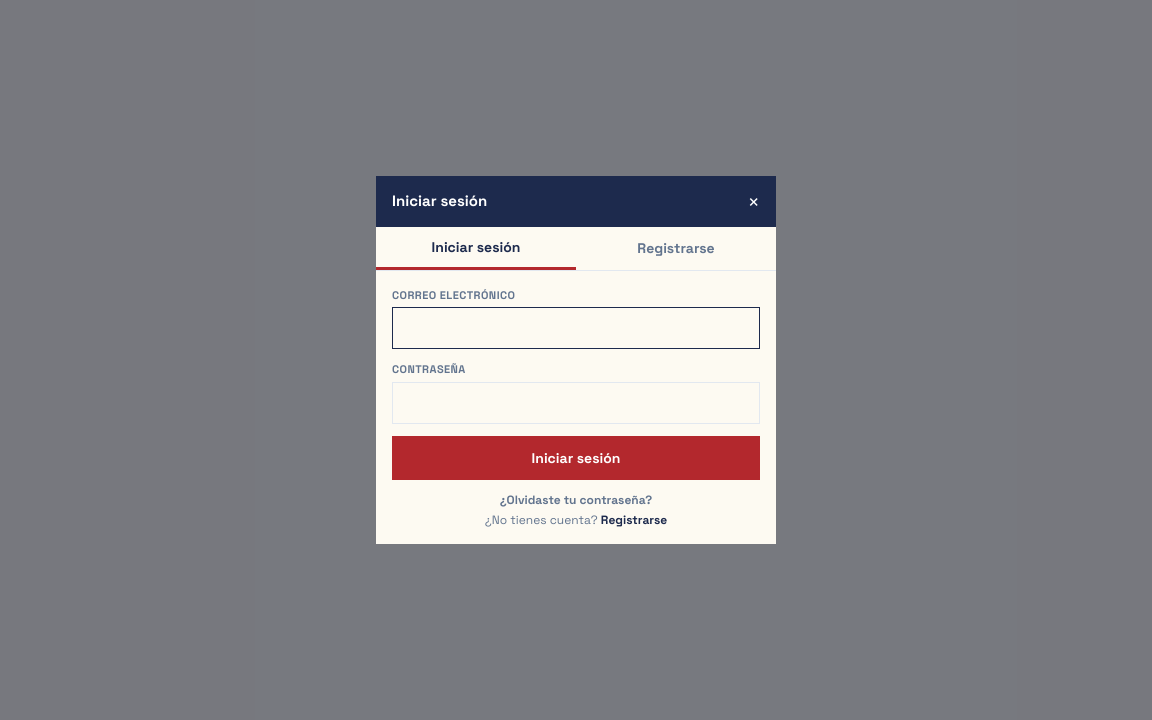
Test case: AuthModal › shows the translated login error when credentials are rejected
Type "coach@example.com" into the field labelled "Correo electrónico" at coordinates (576, 328), box [392, 307, 760, 349]
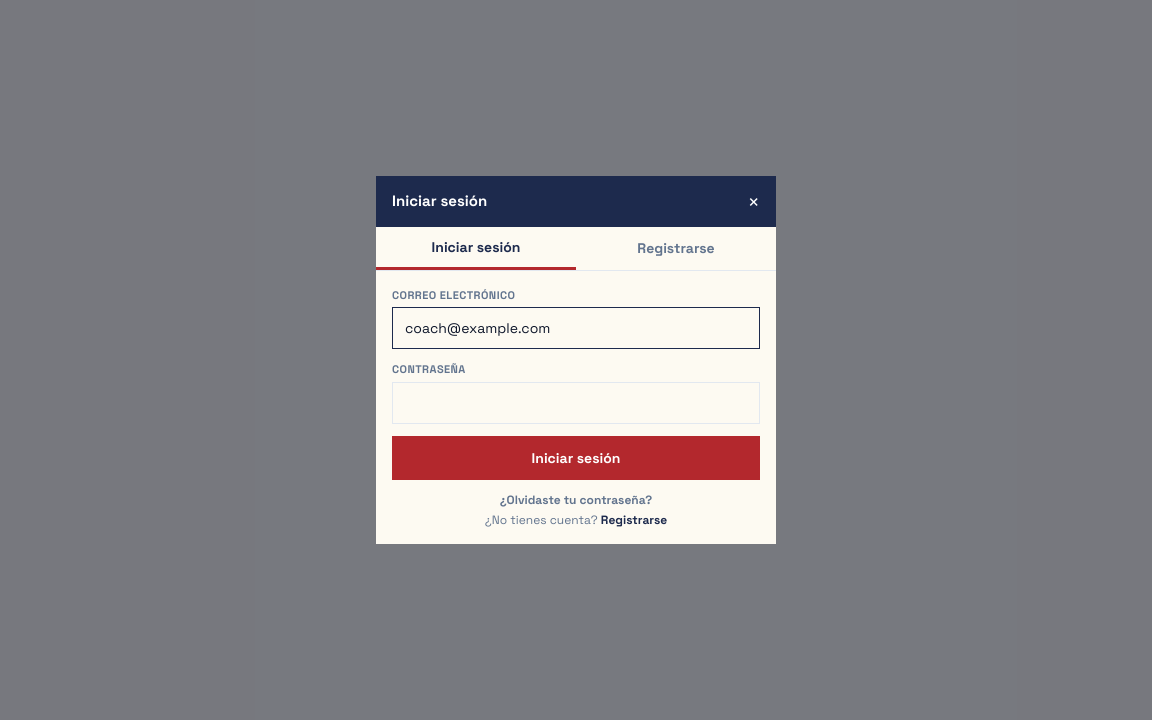
Type "wrong" into the password field labelled "Contraseña" at coordinates (576, 403), box [392, 382, 760, 424]
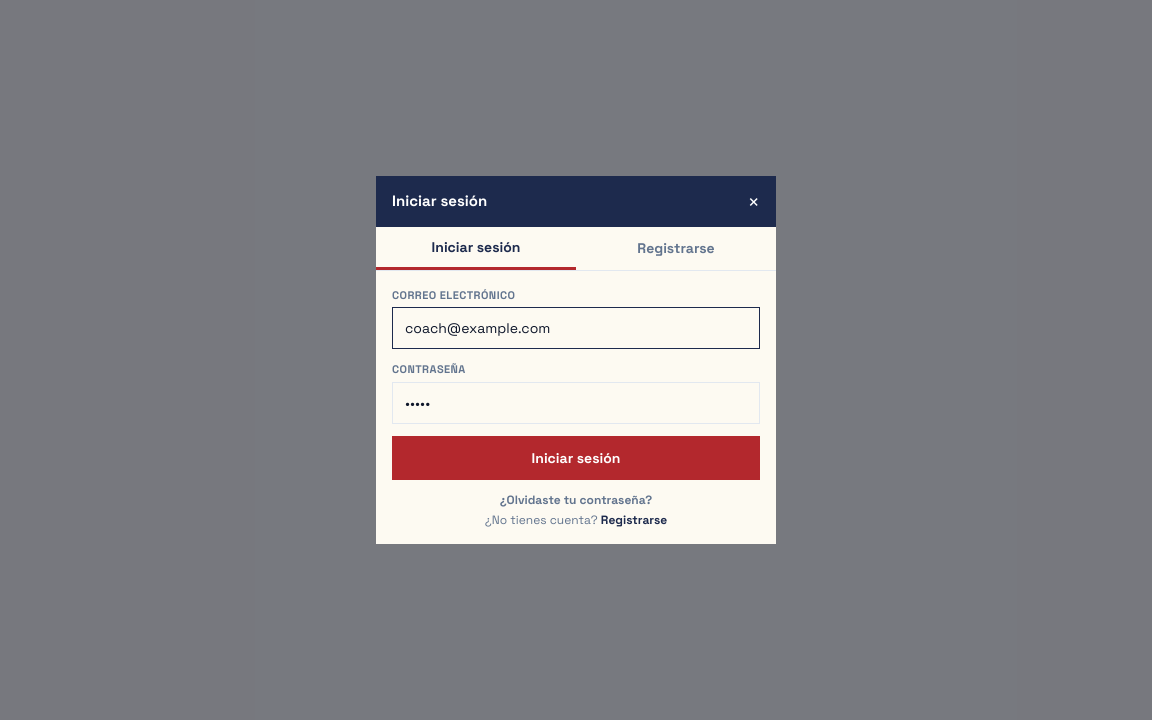
Click the button "Iniciar sesión" below "Correo electrónico" at coordinates (576, 458), box [392, 436, 760, 480]
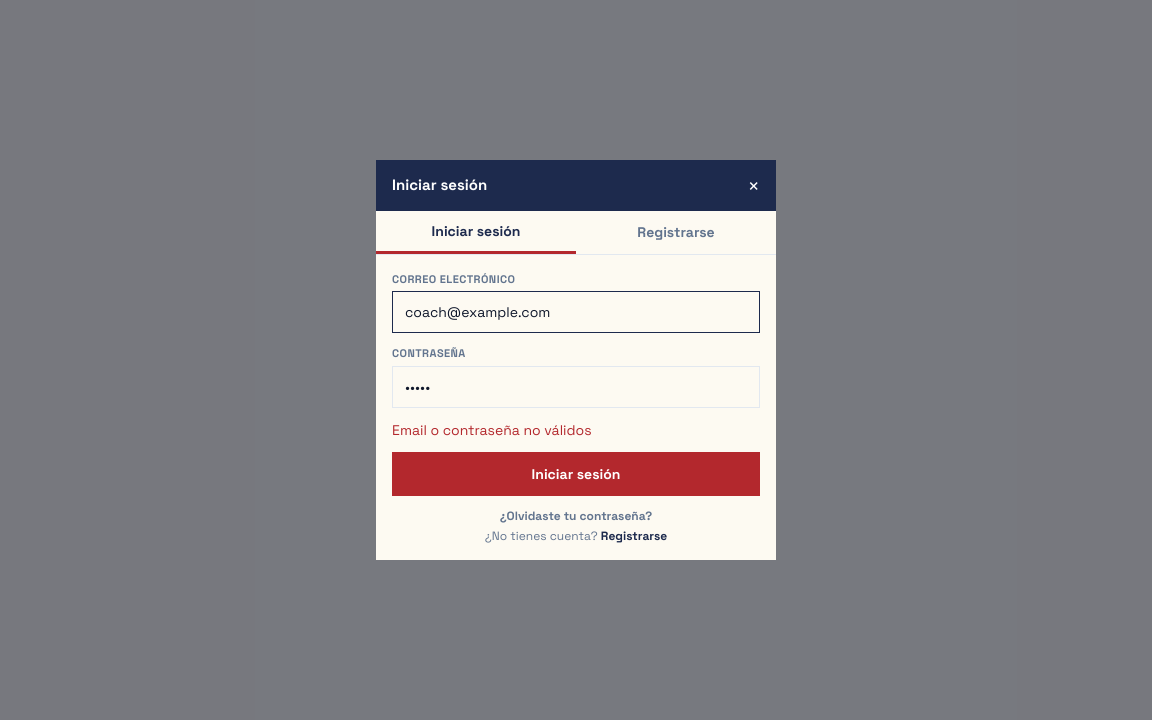
Result: the message reads "Email o contraseña no válidos" at [392, 421, 592, 439]
